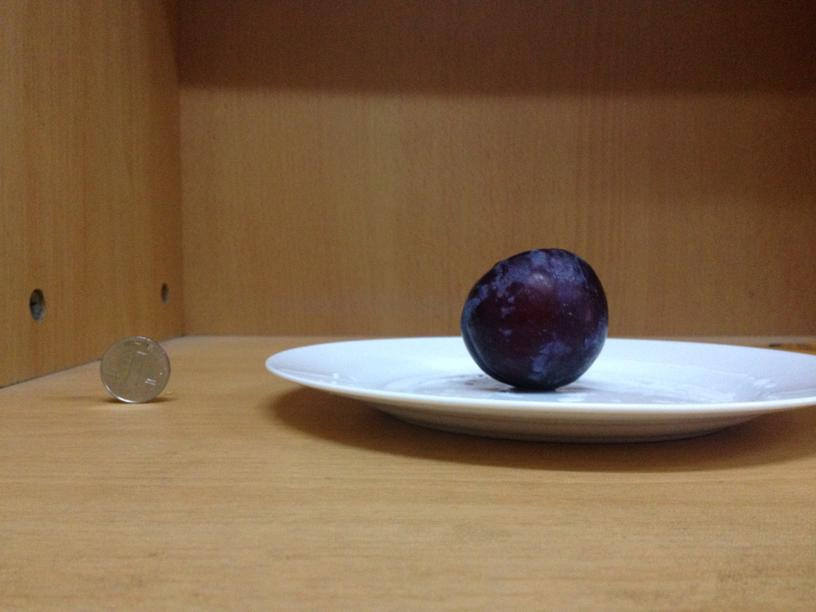coin: (91, 335, 172, 404)
plum: (454, 242, 611, 391)
